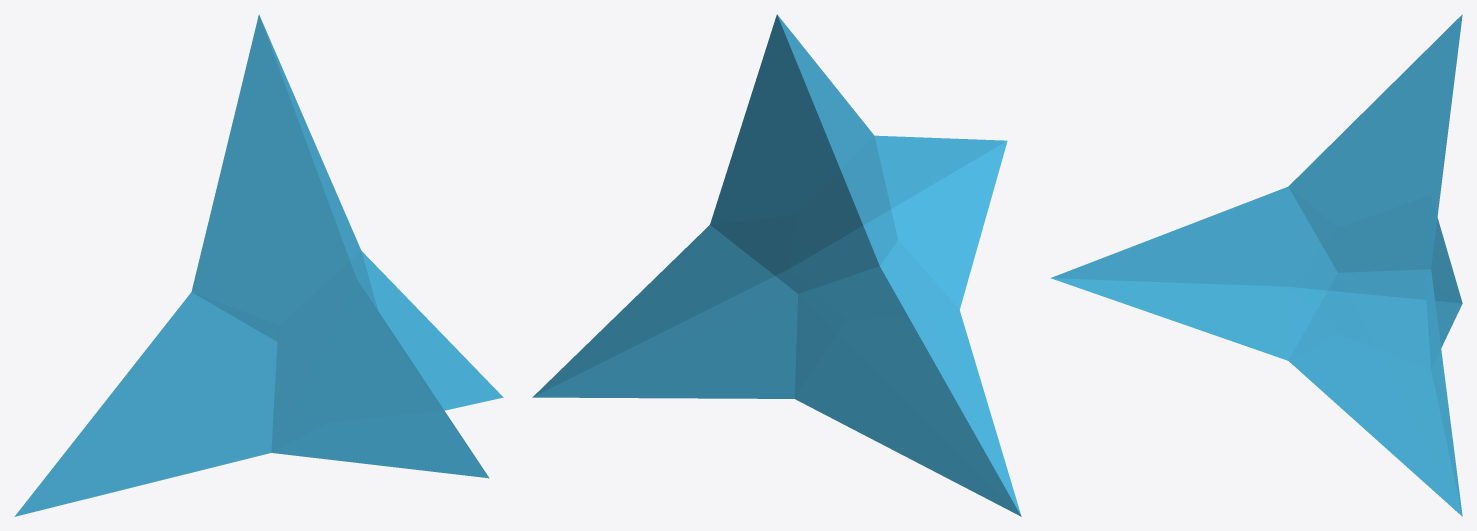
File: TrapezohedralTristetrahedron.obj
The picture shows the model from 3 angles, left to right: view 1: azimuth 30°, elevation 25°; view 2: azimuth 150°, elevation 25°; view 3: azimuth 270°, elevation 25°; orthographic projection. The views are drawn at different scales.
Size of the model in its own units: 10.4 by 9 by 8.49.
